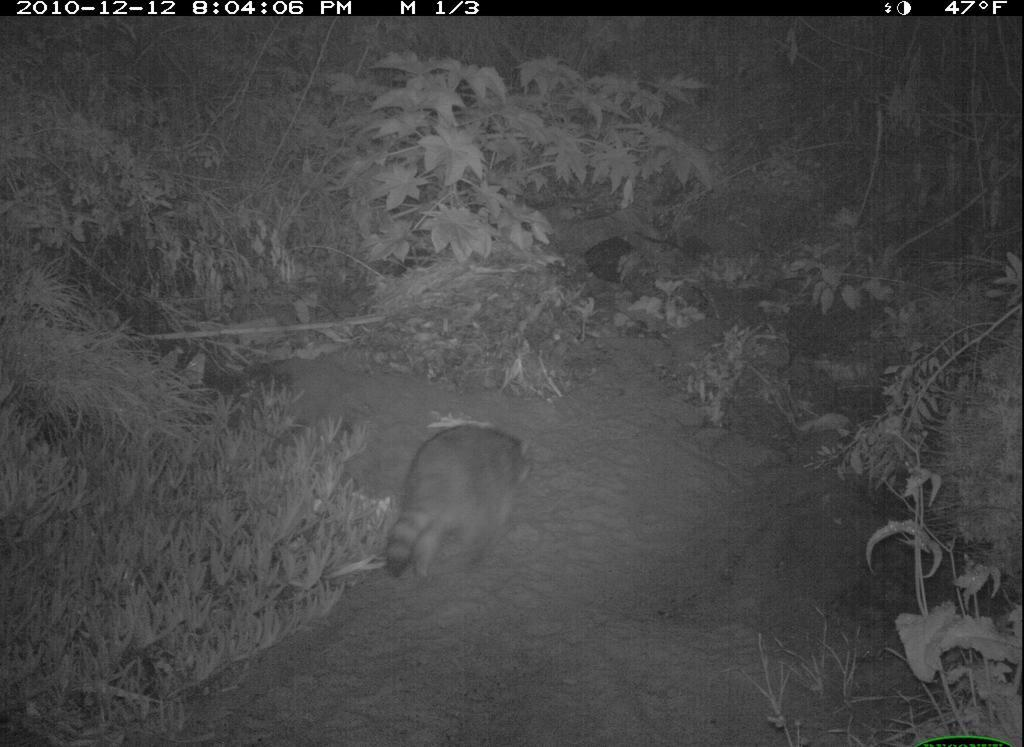raccoon: (373, 410, 546, 589)
